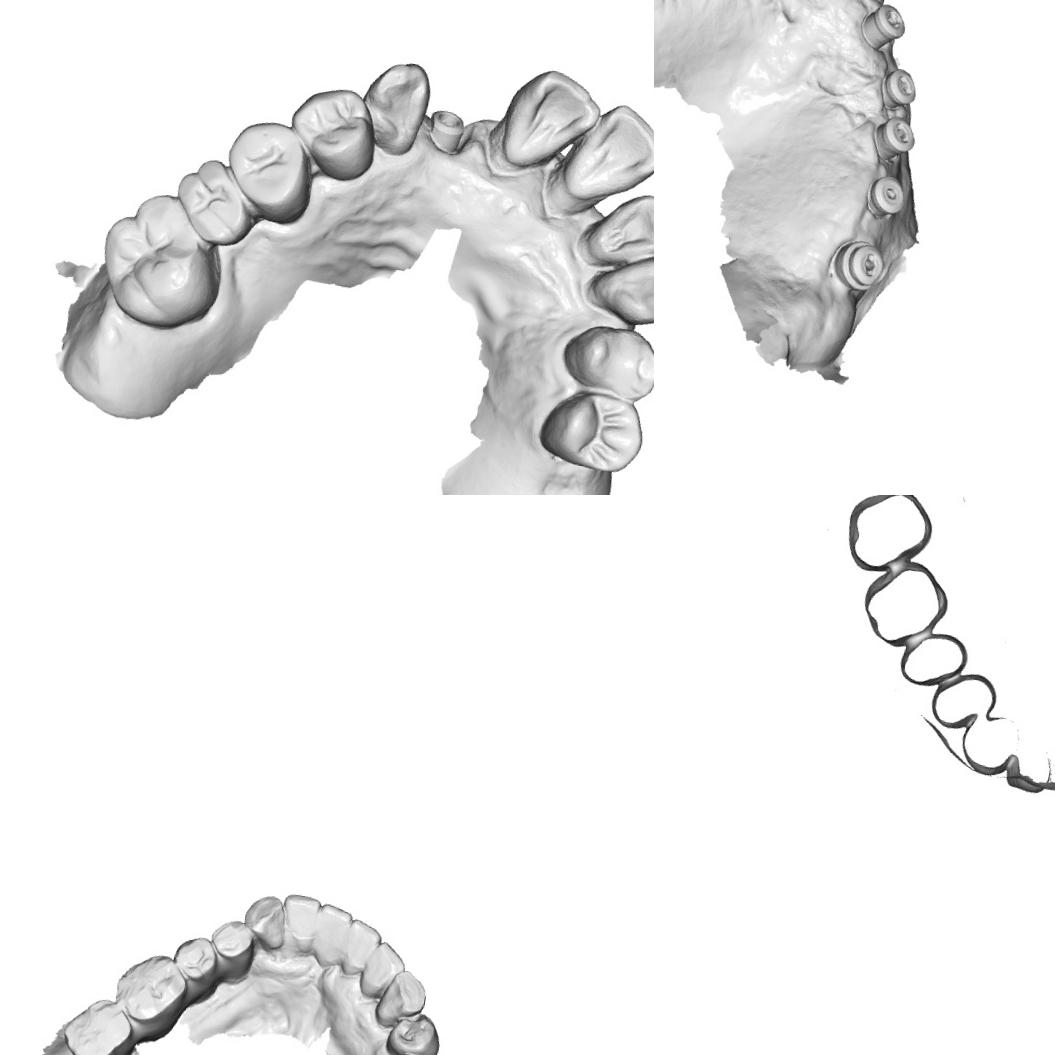canine: (356, 54, 436, 160), (586, 242, 654, 331), (371, 965, 430, 1033), (240, 890, 290, 950)
implant: (421, 104, 471, 162), (866, 170, 909, 224), (863, 0, 910, 46)
implant_minus: (832, 236, 886, 294), (870, 112, 918, 166), (876, 64, 922, 106)
incisor: (493, 62, 605, 180), (559, 94, 654, 212), (583, 182, 654, 273), (306, 900, 356, 973), (356, 938, 410, 1004), (277, 890, 323, 958), (338, 917, 386, 982)
molar: (88, 184, 232, 338), (163, 152, 262, 252), (107, 946, 193, 1038), (56, 991, 143, 1055)
premolar: (535, 384, 649, 478), (284, 80, 384, 185), (220, 115, 317, 223), (556, 317, 654, 404), (204, 916, 260, 985), (167, 932, 226, 997), (381, 1006, 445, 1055)
